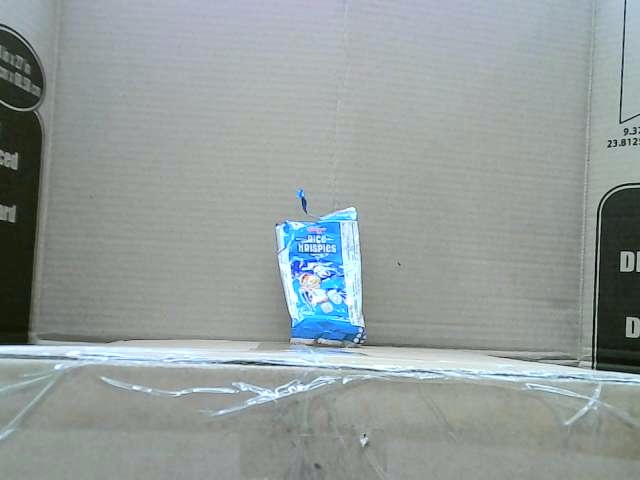CandyWrapper: (275, 191, 364, 345)
